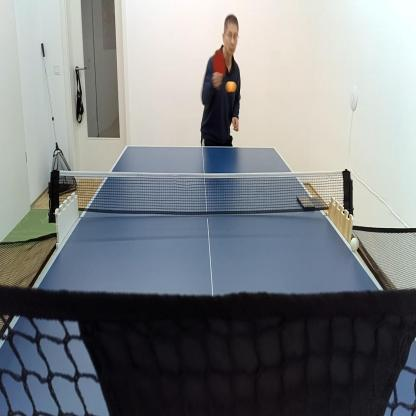Ball: (350, 237, 359, 252), (226, 82, 236, 92)
